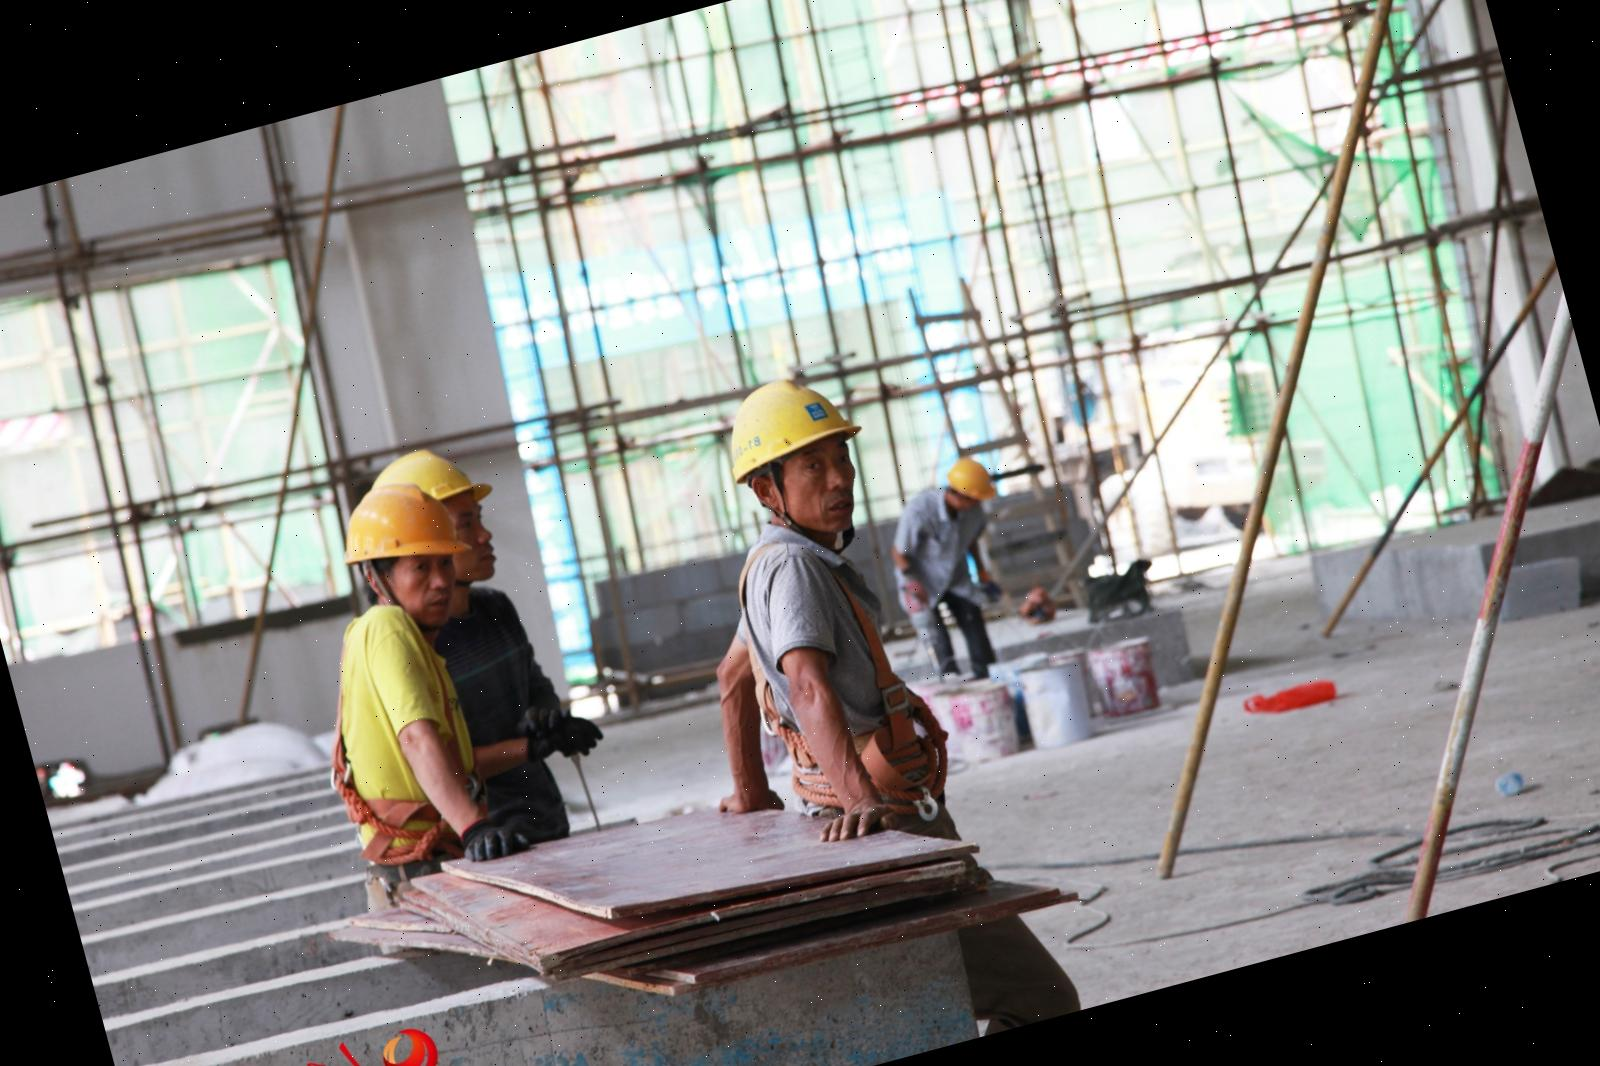helmet: (688, 359, 870, 493), (325, 471, 462, 583), (360, 434, 490, 528), (942, 449, 1002, 509)
no_wear: (720, 534, 929, 820), (427, 579, 581, 828), (325, 615, 478, 826)
